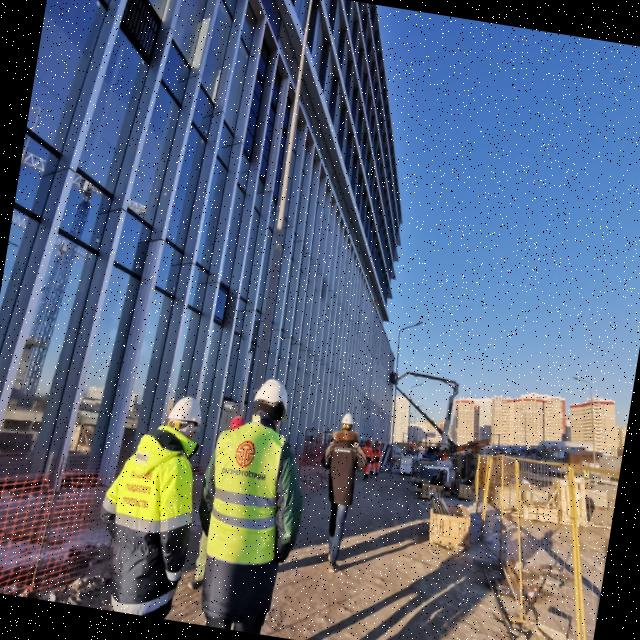Helmet: (251, 377, 295, 427), (167, 393, 208, 433), (341, 412, 357, 431), (367, 440, 372, 447), (376, 442, 380, 448), (444, 453, 448, 458)
Jacket: (109, 428, 194, 589), (205, 418, 287, 578), (365, 448, 376, 466), (372, 448, 382, 467)
NoJacket: (327, 427, 359, 504)
